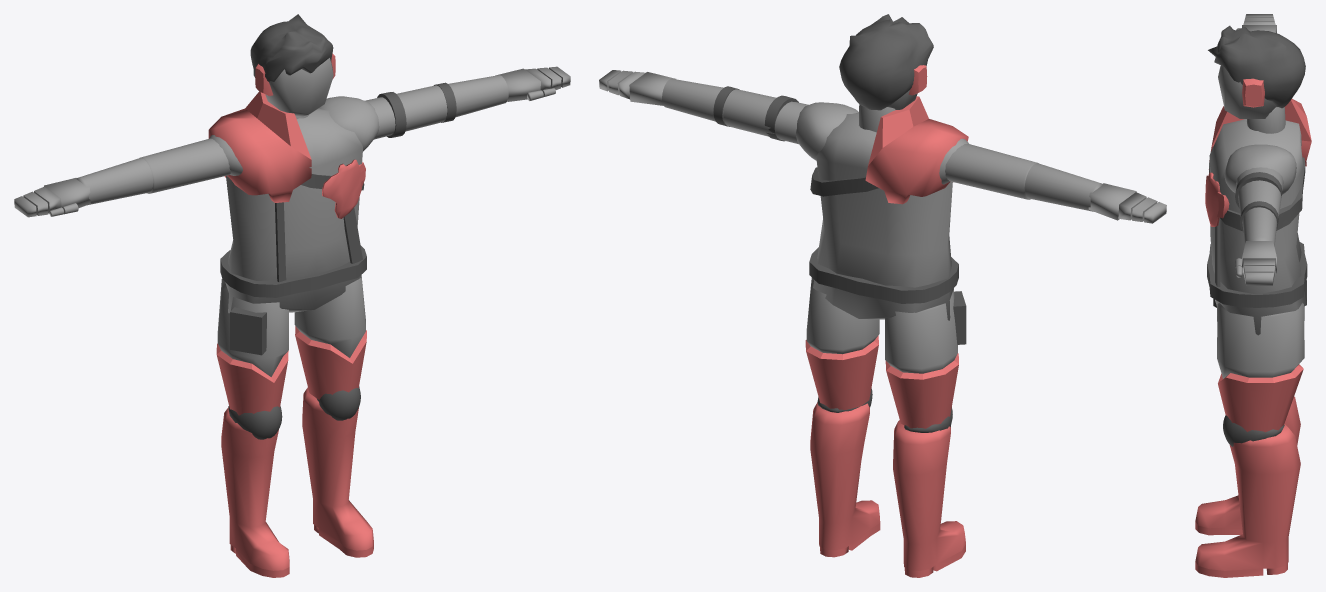
The model's file is C_Gunner_Proxy.fbx.
The picture shows the model from 3 angles, left to right: view 1: azimuth 30°, elevation 25°; view 2: azimuth 150°, elevation 25°; view 3: azimuth 270°, elevation 25°; orthographic projection. The views are drawn at different scales.
Parts seen in each view (by area): view 1: pCylinder3, torso, pCylinder2, pauldron, upper_arm, lower_arm, hair, belt, head, shoulder, knee, palm (+4 smaller); view 2: torso, pCylinder3, pCylinder2, pauldron, hair, upper_arm, lower_arm, belt, shoulder, palm, fingers, straps; view 3: pCylinder3, pCylinder2, torso, hair, belt, shoulder, head, upper_arm, straps, fingers, pauldron, lower_arm (+7 smaller).
Boxes of the visible parts, box(x1,y1,x2,y2) form: pCylinder3: box(221, 387, 373, 577); torso: box(225, 108, 362, 313); pCylinder2: box(216, 277, 366, 415); pauldron: box(208, 91, 311, 202); upper_arm: box(139, 85, 447, 193); lower_arm: box(76, 75, 508, 205); hair: box(250, 14, 333, 81); belt: box(220, 245, 366, 297); head: box(265, 58, 333, 116); shoulder: box(209, 96, 379, 175); knee: box(228, 386, 360, 439); palm: box(44, 68, 540, 208); torso: box(813, 112, 953, 320); pCylinder3: box(810, 402, 965, 577); pCylinder2: box(805, 277, 958, 428); pauldron: box(865, 96, 968, 204); hair: box(839, 14, 933, 110); upper_arm: box(723, 89, 1038, 199); lower_arm: box(662, 78, 1102, 211); belt: box(809, 247, 958, 303); shoulder: box(796, 102, 968, 184); palm: box(629, 72, 1136, 220); fingers: box(599, 70, 1166, 223); straps: box(810, 167, 878, 196); pCylinder3: box(1195, 396, 1300, 577); pCylinder2: box(1217, 302, 1304, 432); torso: box(1209, 119, 1306, 335); hair: box(1208, 25, 1305, 108); belt: box(1207, 242, 1307, 307); shoulder: box(1224, 144, 1296, 194); head: box(1218, 65, 1275, 118); upper_arm: box(1236, 167, 1283, 217); straps: box(1209, 157, 1305, 286); fingers: box(1243, 14, 1275, 285); pauldron: box(1208, 99, 1311, 169); lower_arm: box(1242, 207, 1277, 246).
Bounding box in the file's own units: 202 × 185 × 37.75.
